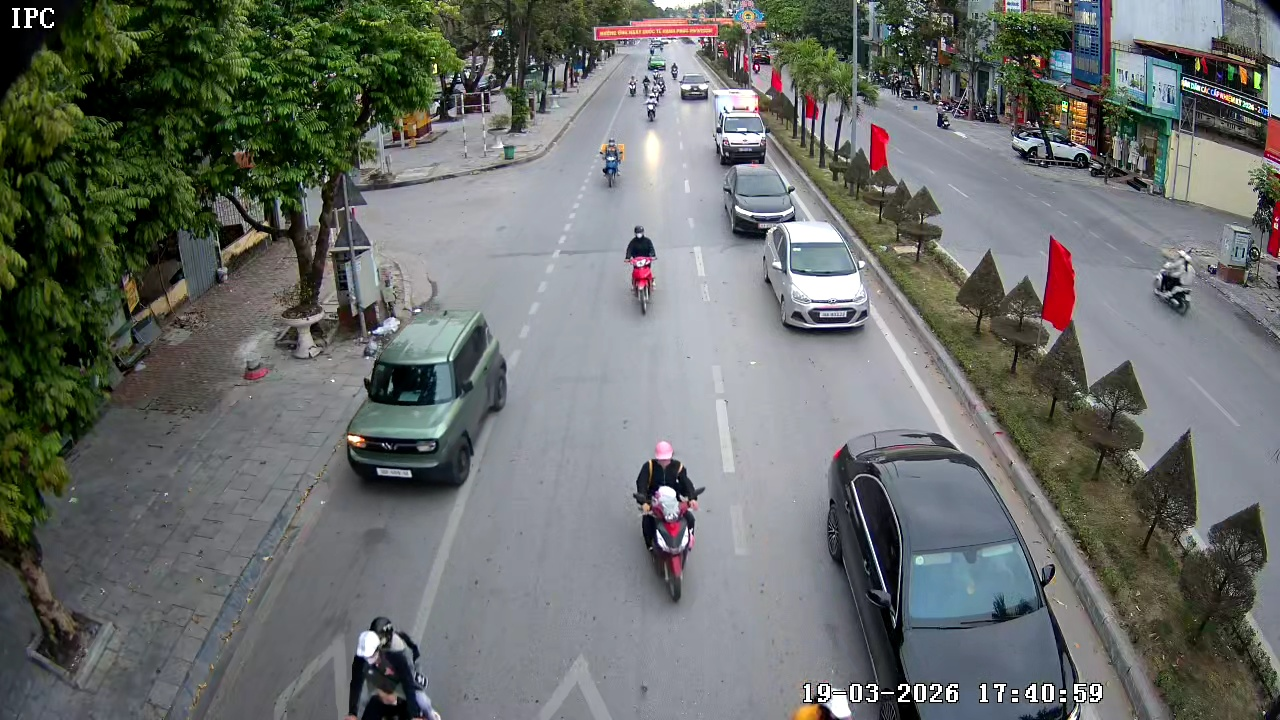car: (824, 430, 1096, 719), (345, 308, 510, 488), (761, 222, 871, 333), (721, 164, 798, 237), (713, 107, 770, 163), (678, 71, 709, 102)
motorbike: (631, 440, 707, 602), (623, 224, 659, 315), (1152, 242, 1196, 315), (597, 136, 628, 189), (645, 93, 658, 126)
